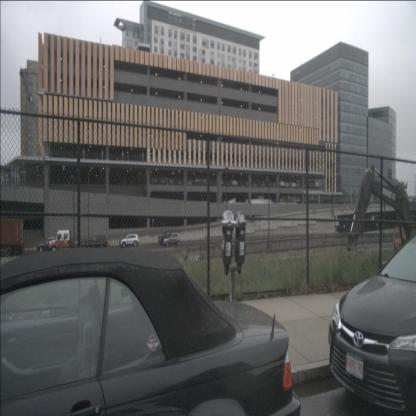vehicle-car: (0, 247, 303, 415), (328, 232, 416, 416), (37, 237, 63, 254), (158, 230, 178, 246), (120, 233, 139, 248), (88, 235, 106, 249), (164, 233, 182, 247), (148, 174, 158, 186), (226, 178, 238, 188), (307, 180, 319, 189), (238, 179, 250, 188), (157, 176, 167, 186), (174, 178, 184, 188), (166, 176, 175, 186), (200, 177, 210, 186), (185, 178, 193, 188), (277, 178, 285, 188), (289, 180, 297, 189), (192, 178, 200, 187), (258, 180, 266, 188), (283, 179, 289, 189)
vehicle-truck: (48, 230, 106, 254)
